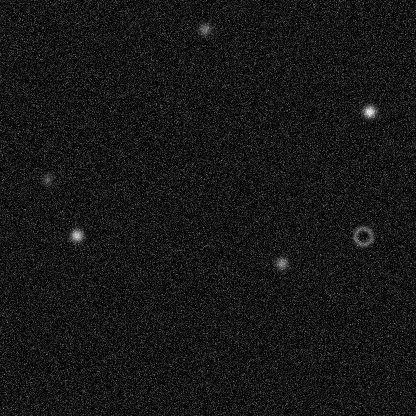Ring: (351, 224, 375, 248)
Spot: (68, 227, 84, 243), (39, 171, 55, 187), (273, 255, 289, 271), (196, 21, 212, 37), (361, 103, 377, 119)
